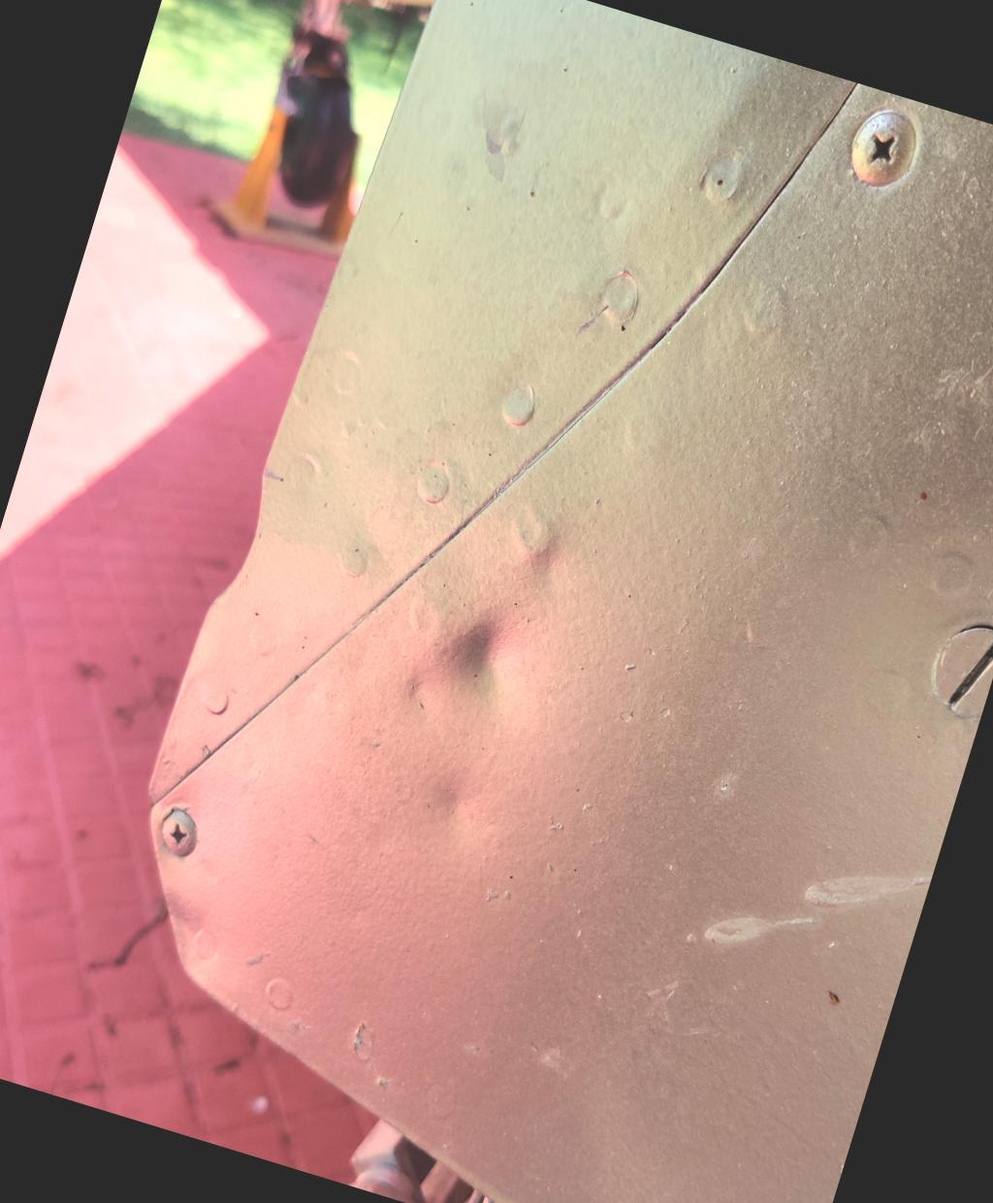dent: (405, 576, 557, 724)
